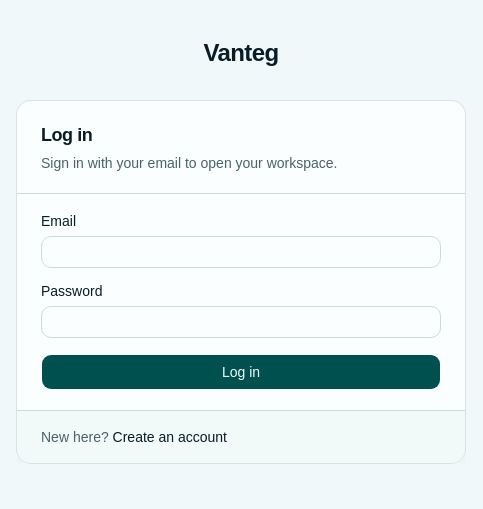
LoginPage › validates required fields
Click the button "Log in".
click(241, 372)  # box [41,354,441,390]
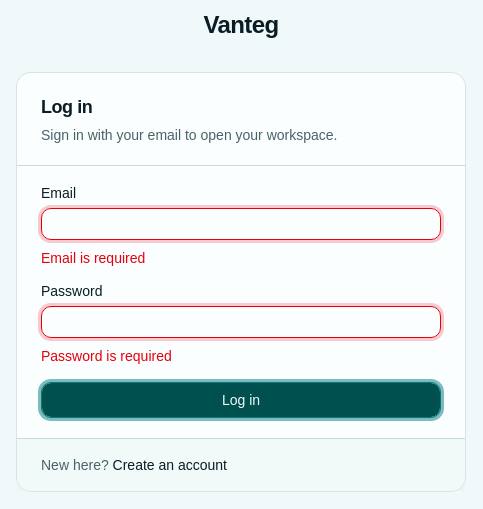
Check: the text "Email is required" is shown, box [41,250,145,266]
Check: the text "Password is required" is shown, box [41,348,172,364]
